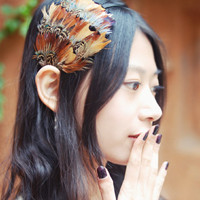face: (78, 27, 162, 166)
